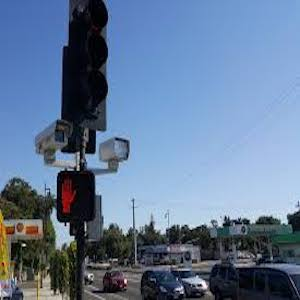red: (58, 176, 89, 219)
